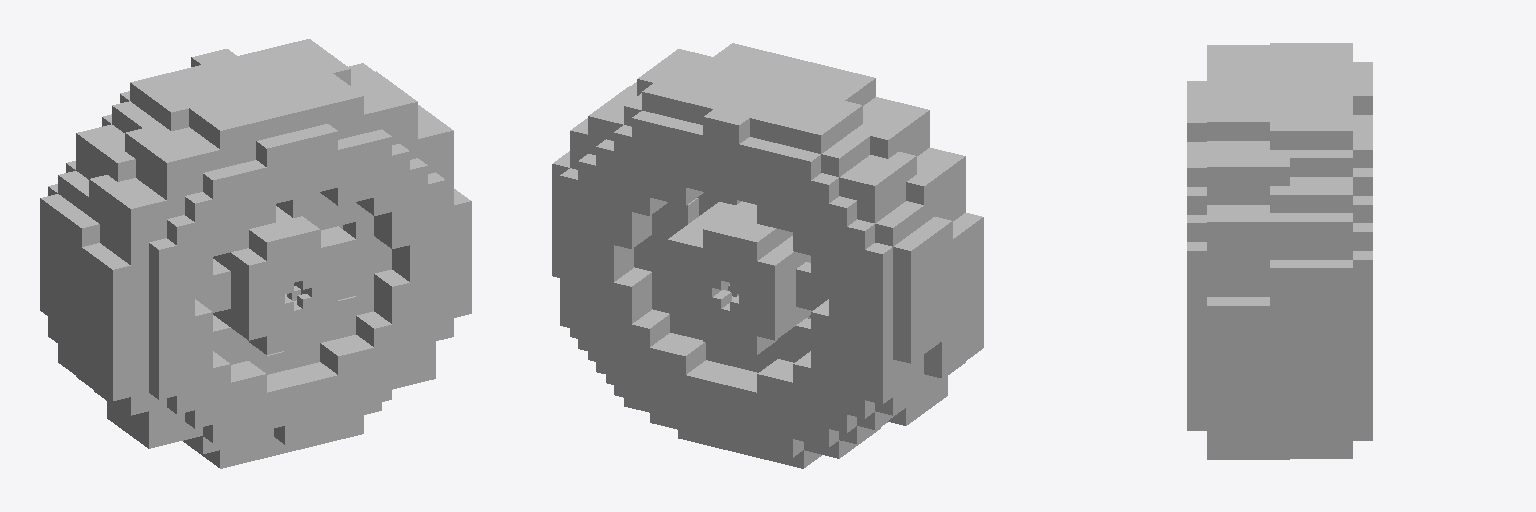
File: wheel_right.obj
3 renders of one model, left to right at view 1: azimuth 30°, elevation 25°; view 2: azimuth 150°, elevation 25°; view 3: azimuth 270°, elevation 25°, orthographic.
Visible parts, largest first — view 1: wheel; view 2: wheel; view 3: wheel.
Part boxes in pixels (x1,y1,x2,y2): wheel: (40, 39, 471, 468); wheel: (552, 43, 983, 468); wheel: (1187, 43, 1372, 459).
Size of the model in its own units: 8 by 7.2 by 3.6.